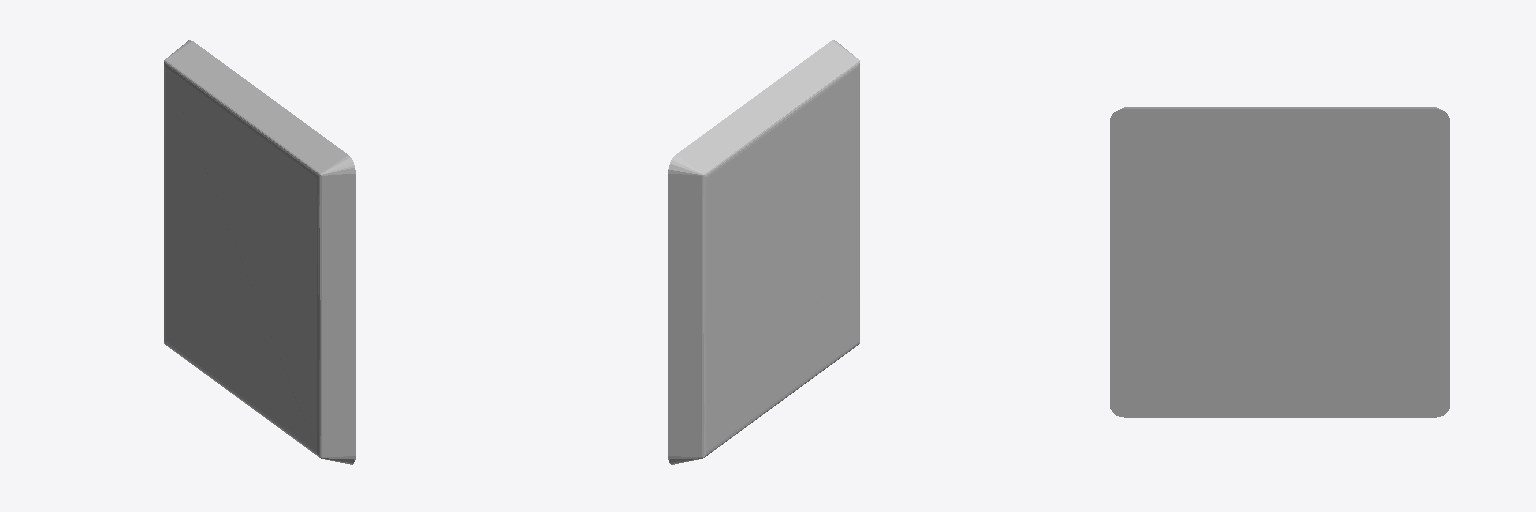
File: tinker.obj
The picture shows the model from 3 angles: view 1: azimuth 30°, elevation 25°; view 2: azimuth 150°, elevation 25°; view 3: azimuth 270°, elevation 25°; orthographic projection.
Parts seen in each view (by area): view 1: obj_0.030; view 2: obj_0.030; view 3: obj_0.030.
Boxes of the visible parts, x1=… form: obj_0.030: x1=164, y1=40, x2=355, y2=464; obj_0.030: x1=668, y1=40, x2=859, y2=464; obj_0.030: x1=1110, y1=107, x2=1449, y2=417.
Size of the model in its own units: 1.5 by 15 by 15.